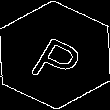P_NE: (23, 24, 87, 86)
